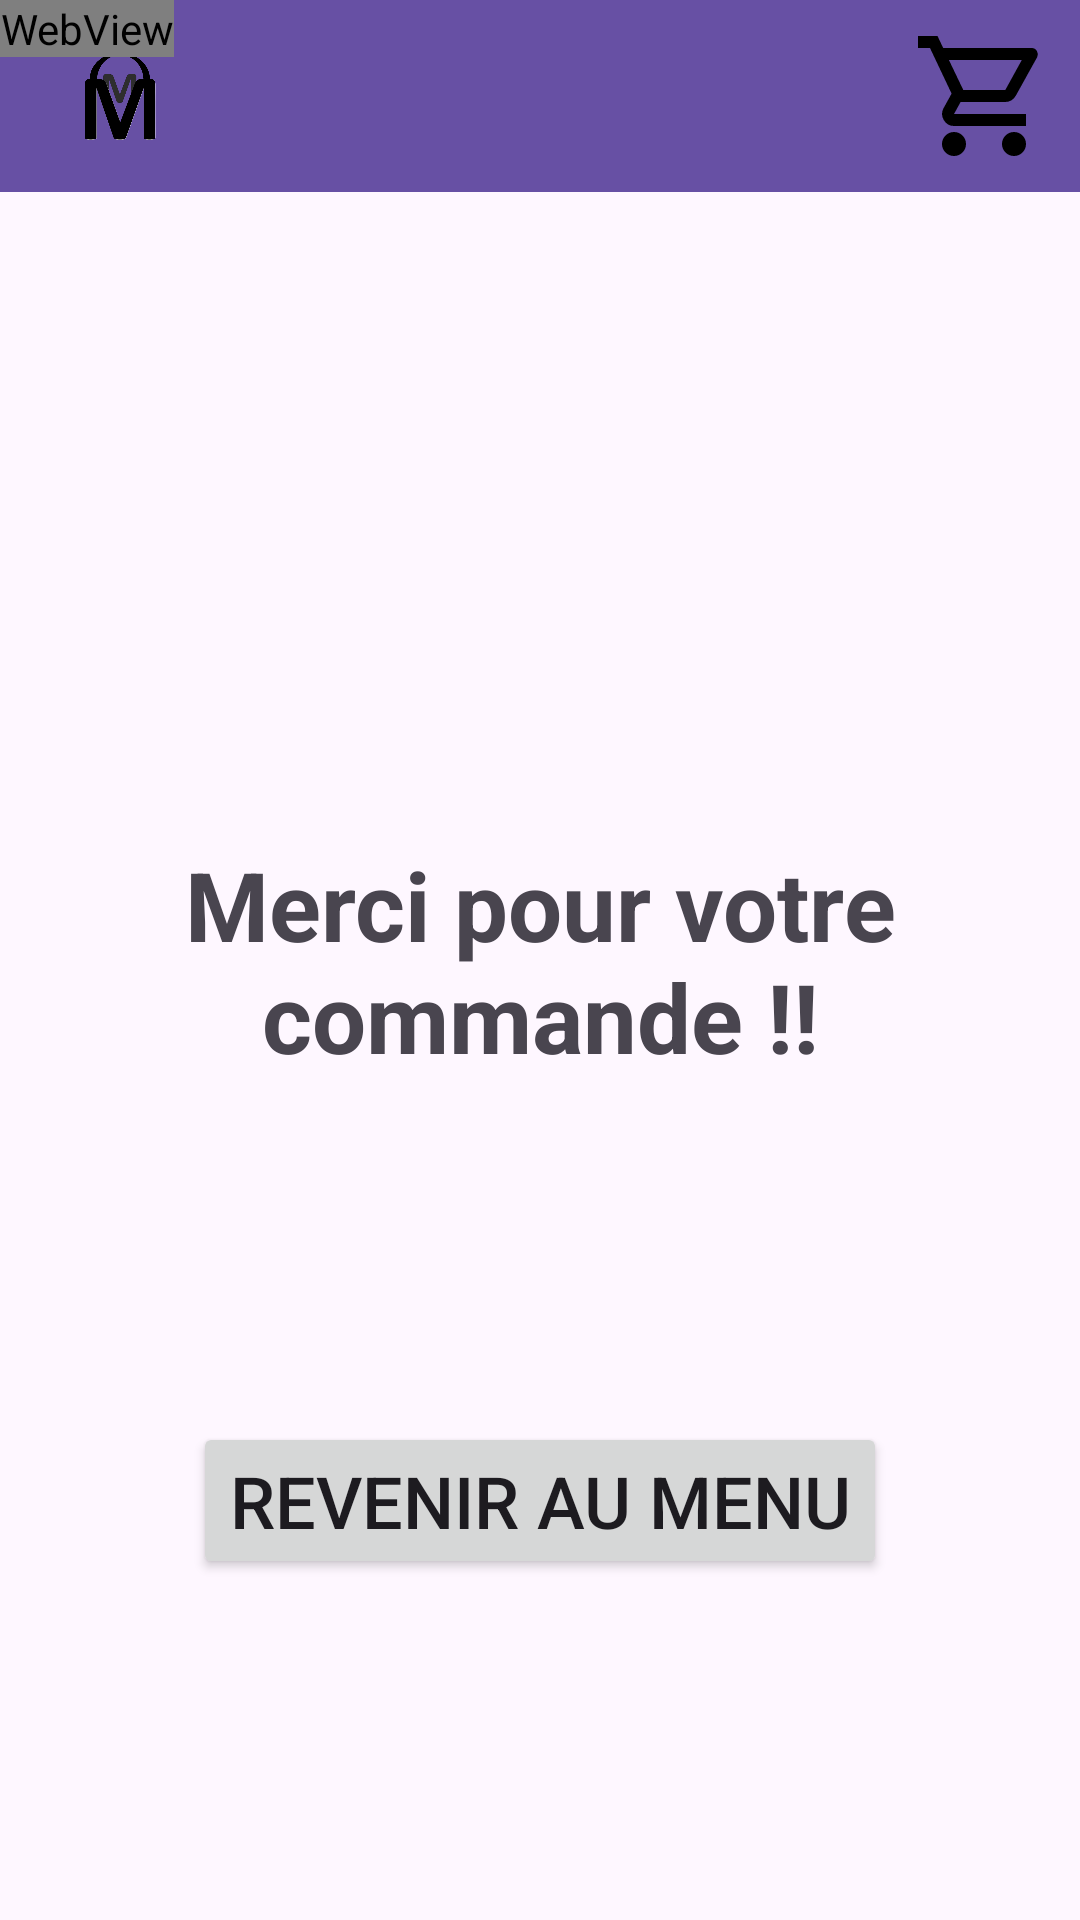

Where to tap for icons on this 1080px x 1920px app screen, as (x=x, y=y):
shopping cart: (x=978, y=96)
